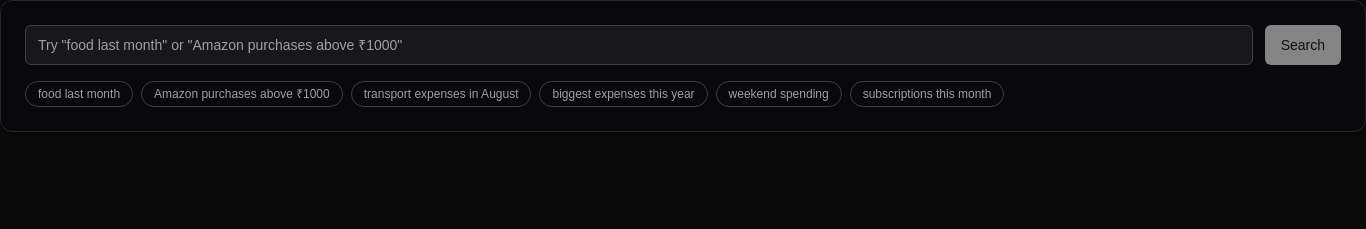
Scenario: NaturalLanguageSearch › does not mark a search active while it requires confirmation
Click the button "weekend spending": point(779, 94) 716,81 -> 842,107
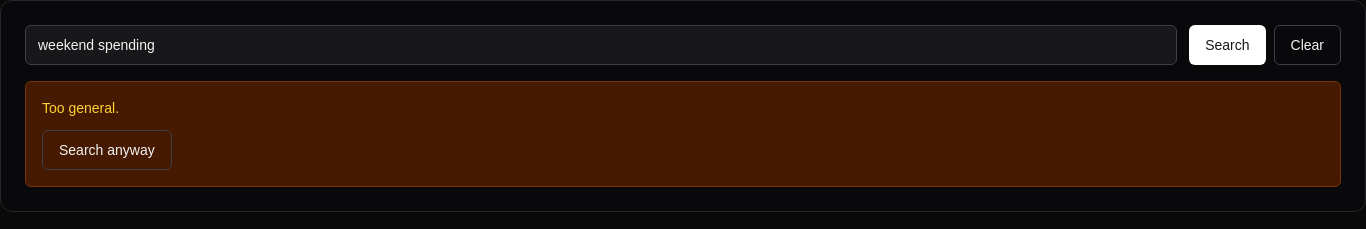
Check: the text "Too general." is shown, box 42,100 -> 119,116
